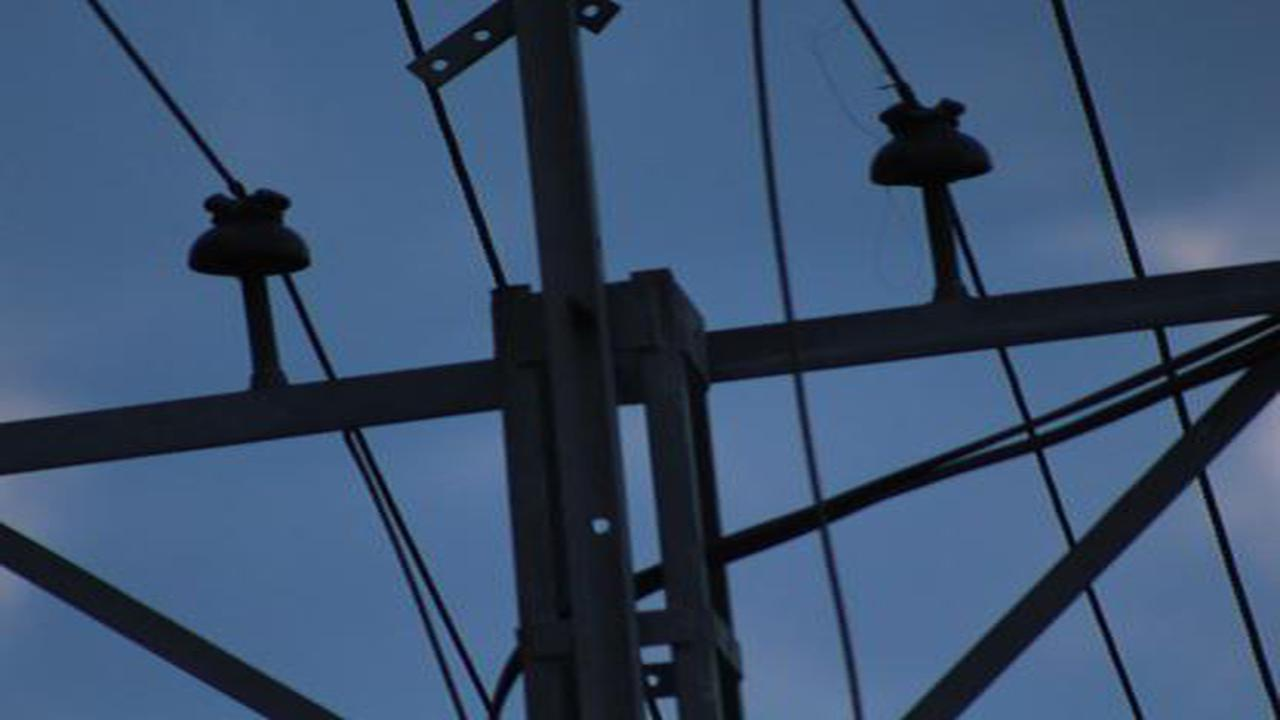insulator_pin: (183, 184, 322, 288), (864, 95, 1000, 198)
